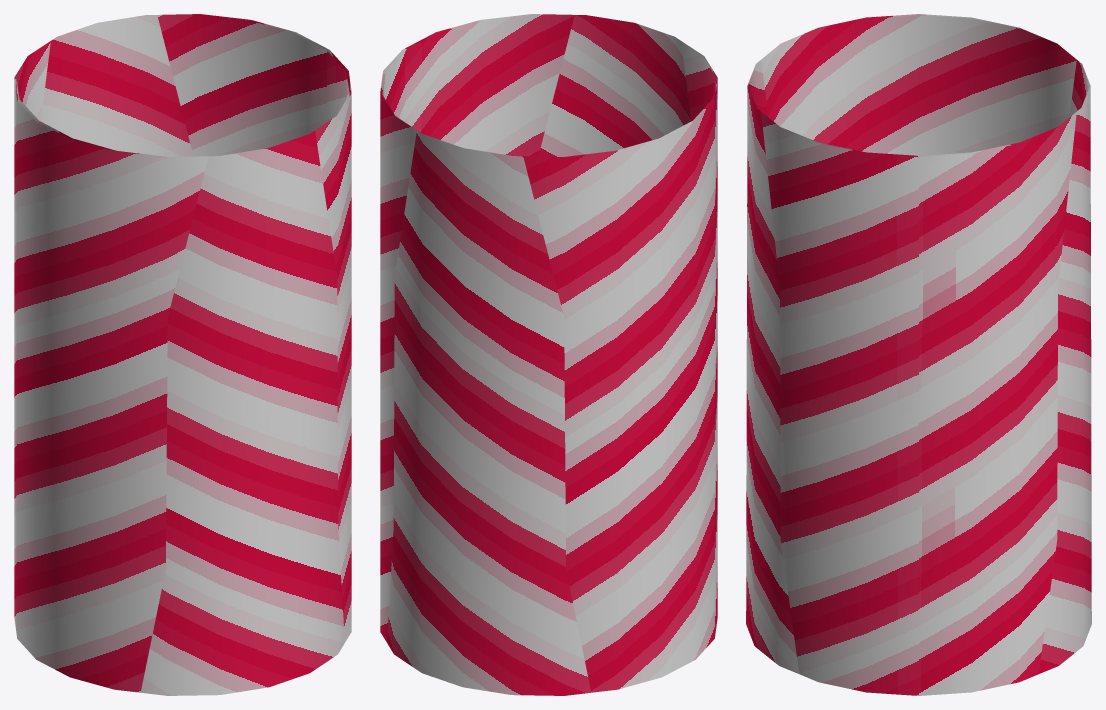
The model's file is transporter2.obj.
3 renders of one model, left to right at view 1: azimuth 30°, elevation 25°; view 2: azimuth 150°, elevation 25°; view 3: azimuth 270°, elevation 25°, orthographic.
Parts seen in each view (by area): view 1: pPipe1; view 2: pPipe1; view 3: pPipe1.
Part boxes in pixels (box(x1,y1,x2,y2)): pPipe1: box(14, 14, 351, 695); pPipe1: box(380, 14, 717, 695); pPipe1: box(746, 14, 1091, 695).
Bounding box in the file's own units: 40.47 × 71.01 × 41.29.
